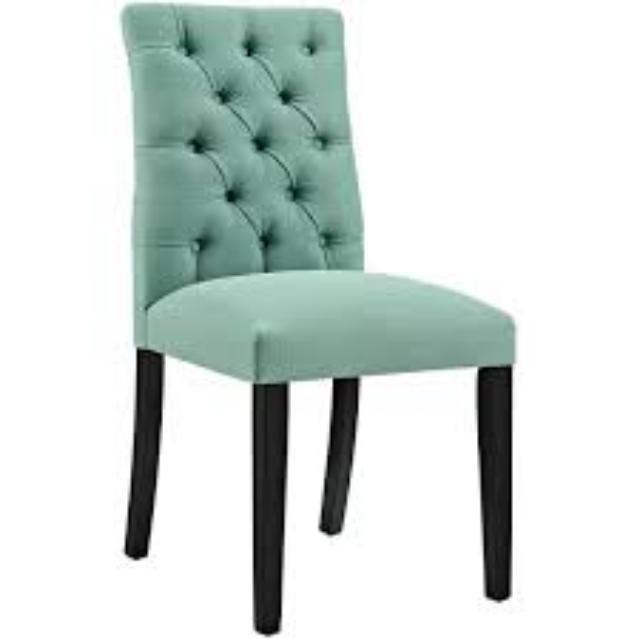obstacle: (94, 2, 570, 640)
